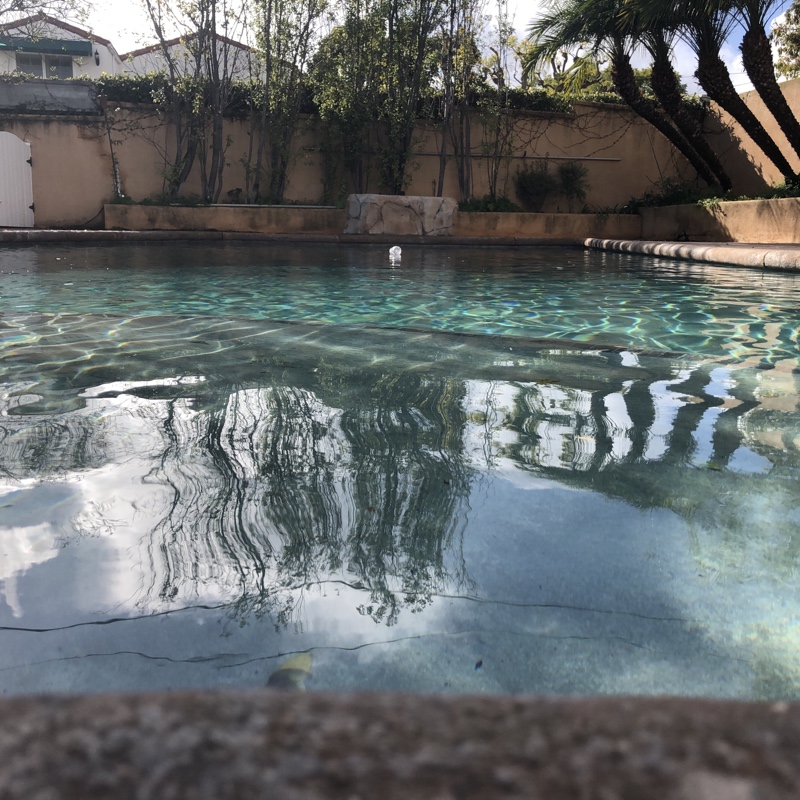Plastic Bottle: (385, 244, 403, 257)
